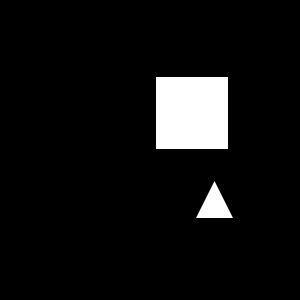circle: (156, 77, 228, 149)
triangle: (196, 181, 233, 218)
